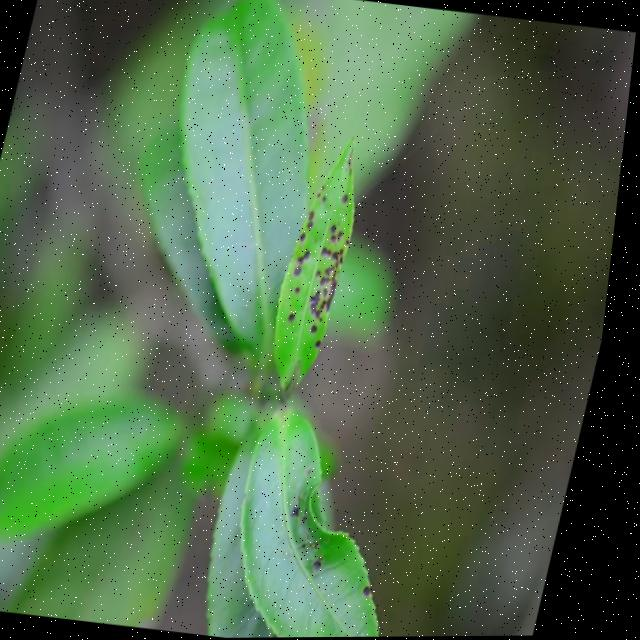Tea red scab: (302, 151, 384, 359), (288, 169, 346, 304)
